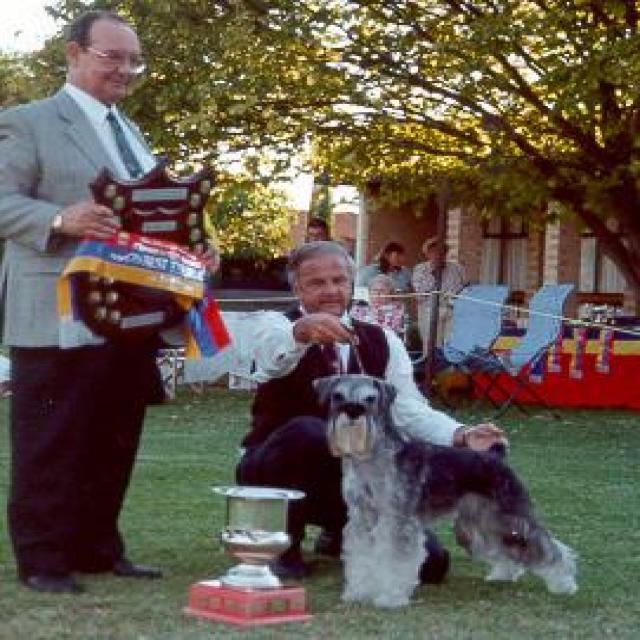standard_schnauzer: (314, 372, 581, 611)
